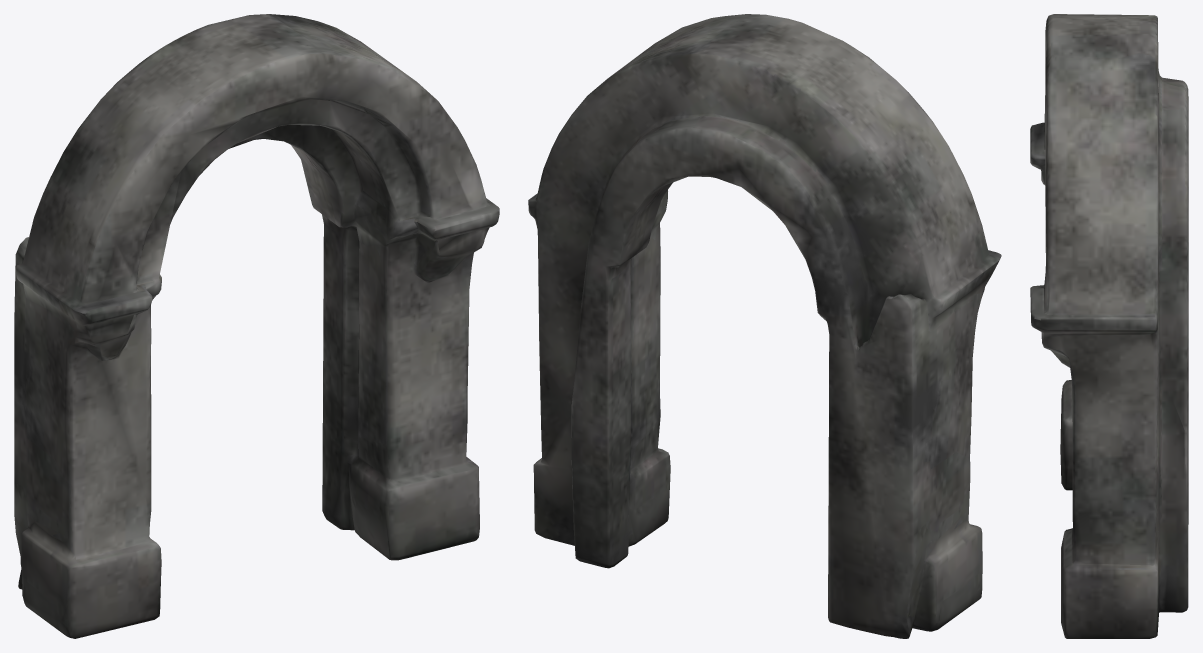
The model's file is chipped-granite-arched-doorway-v001.glb.
The picture shows the model from 3 angles, left to right: view 1: azimuth 30°, elevation 25°; view 2: azimuth 150°, elevation 25°; view 3: azimuth 270°, elevation 25°; orthographic projection. The views are drawn at different scales.
Visible parts, largest first — view 1: chipped-granite-arched-doorway; view 2: chipped-granite-arched-doorway; view 3: chipped-granite-arched-doorway.
Part boxes in pixels (<box>): chipped-granite-arched-doorway: <box>14,14,499,638</box>; chipped-granite-arched-doorway: <box>528,14,1001,638</box>; chipped-granite-arched-doorway: <box>1030,14,1188,638</box>.
Bounding box in the file's own units: 2.14 × 2.6 × 0.7263.
1 material, 1 textured.
